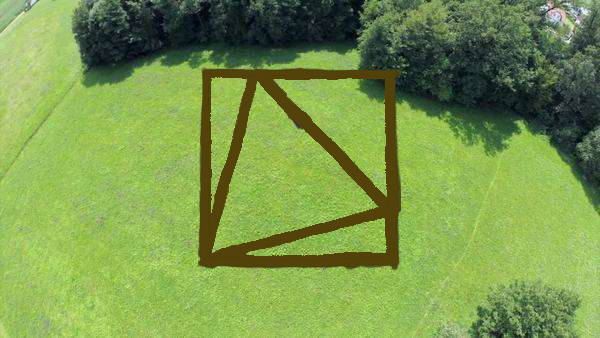marker: (199, 66, 400, 271)
